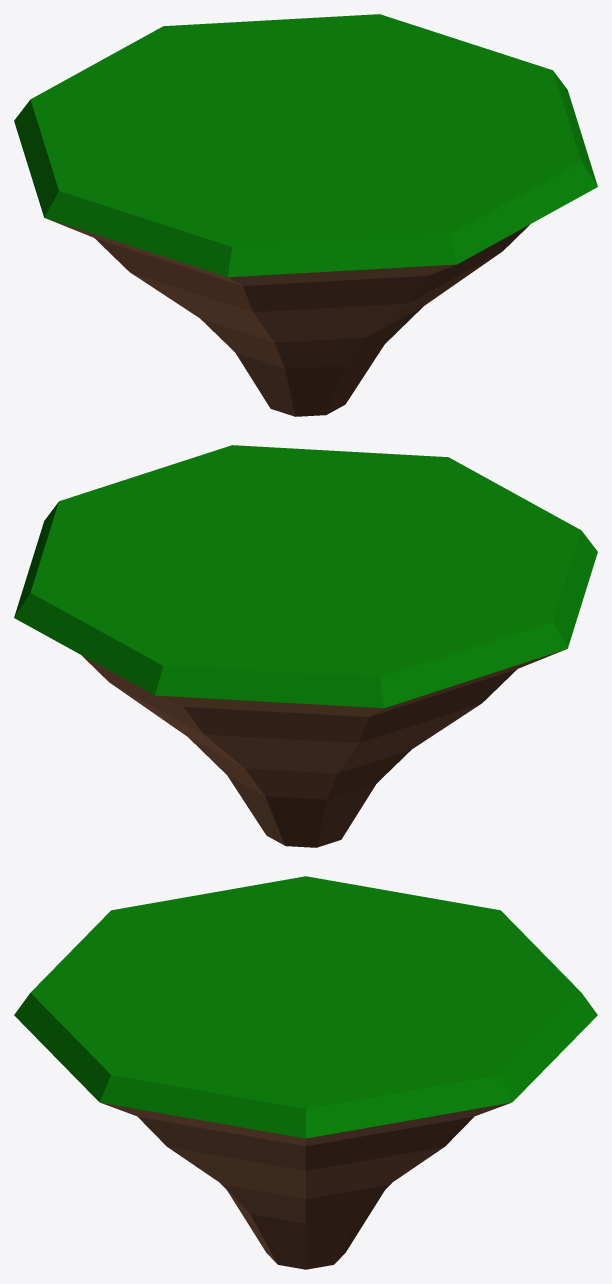
File: island_medium.glb
3 views of the same model, one above another, from view 1: azimuth 30°, elevation 25°; view 2: azimuth 150°, elevation 25°; view 3: azimuth 270°, elevation 25° (orthographic). The views are drawn at different scales.
Parts seen in each view (by area): view 1: Island_Medium; view 2: Island_Medium; view 3: Island_Medium.
Boxes of the visible parts, bbox=[...] form: Island_Medium: bbox=[14, 14, 597, 416]; Island_Medium: bbox=[14, 445, 597, 847]; Island_Medium: bbox=[14, 876, 597, 1269].
Size of the model in its own units: 42.39 by 20.86 by 42.39.
1 material, 1 textured.
